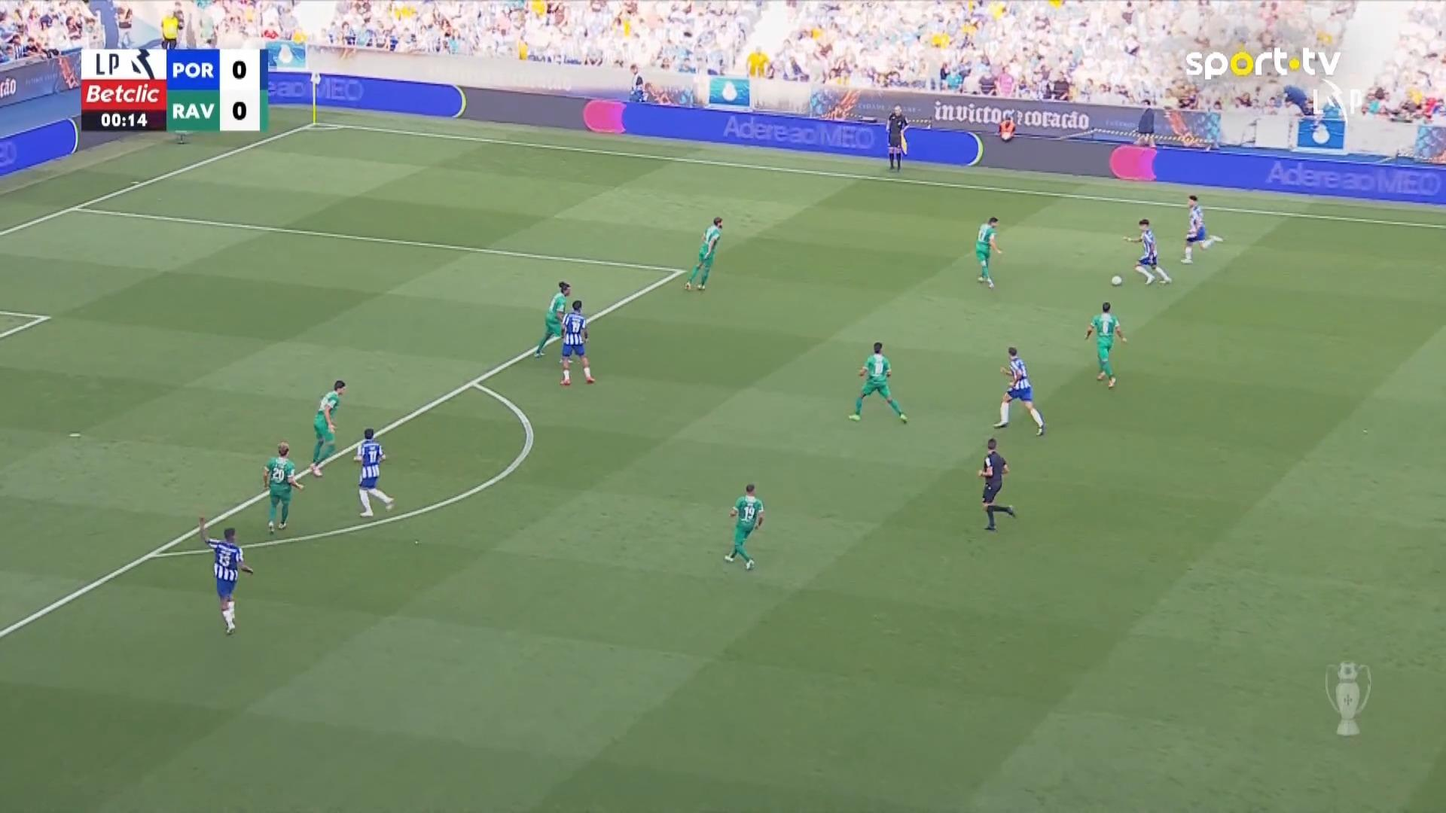ball: (1111, 275, 1121, 286)
player: (197, 515, 254, 635), (847, 340, 908, 423), (992, 346, 1045, 436), (261, 441, 304, 534), (352, 427, 395, 516), (308, 379, 346, 477), (1084, 300, 1126, 388), (723, 483, 764, 570), (1123, 218, 1171, 285), (558, 299, 595, 385), (683, 215, 724, 291), (532, 280, 571, 358), (1179, 193, 1222, 263), (974, 215, 1002, 288)
referee: (977, 437, 1016, 531), (885, 104, 909, 171)
